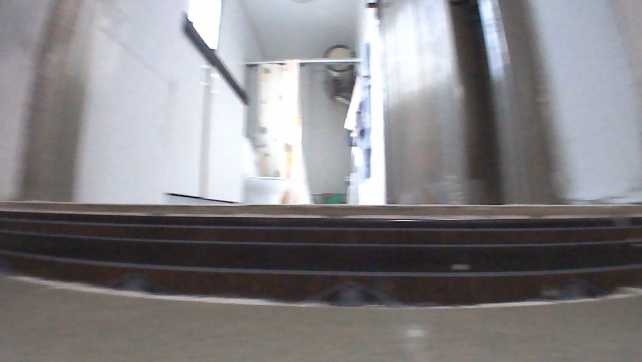door_sill: (3, 204, 640, 311)
toilet: (244, 173, 286, 204)
